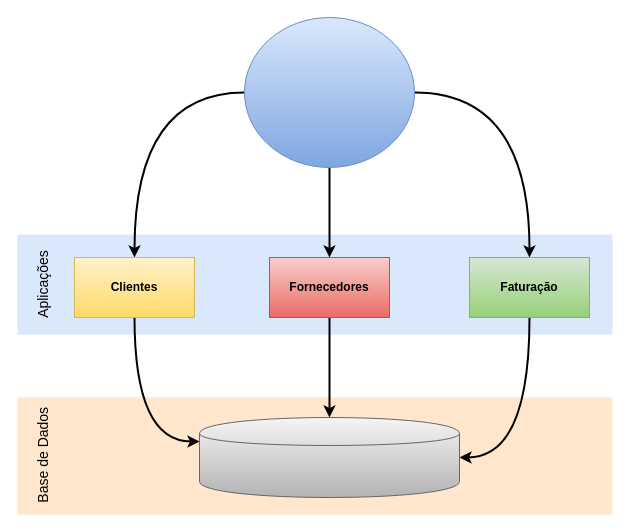
Some shapes in this 629 by 532 pixel diagram are drawn without their labels. Each missing label, with the centre of its shape:
"Gestão Corporativa" belongs at point (329, 457).
"NETUNO" belongs at point (329, 92).
